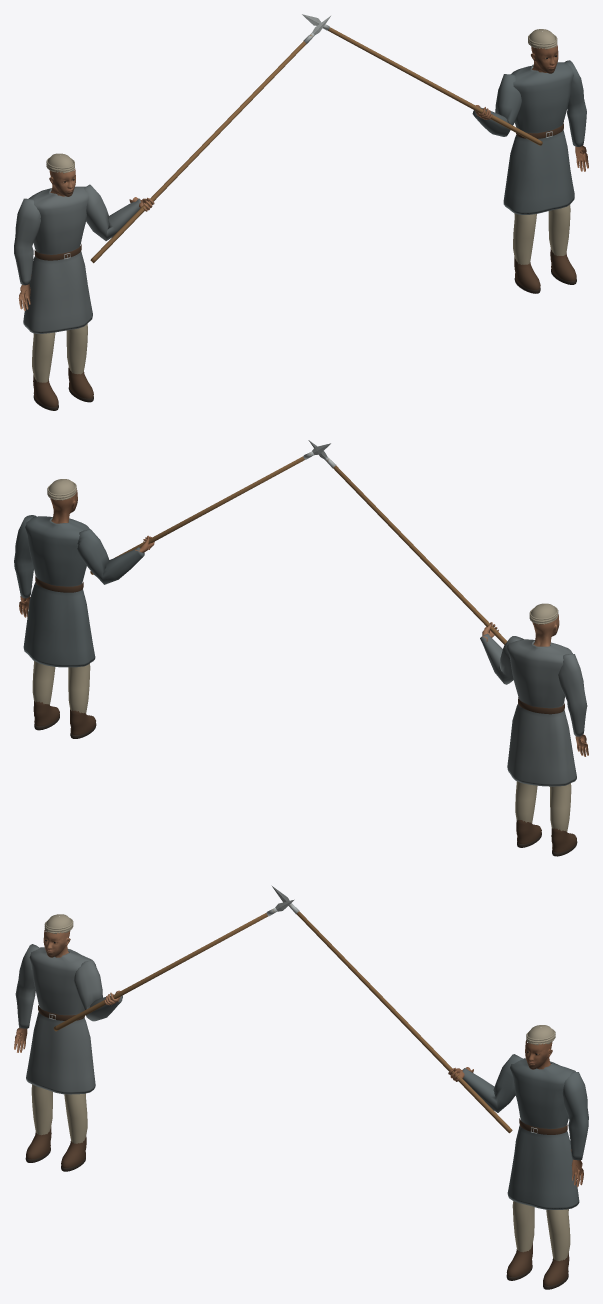
Rendered from guardians.glb.
3 renders of one model, top to bottom at view 1: azimuth 30°, elevation 25°; view 2: azimuth 150°, elevation 25°; view 3: azimuth 330°, elevation 25°, orthographic.
Parts seen in each view (by area): view 1: NG861_GuardRight_Body, NG861_GuardLeft_Body, NG861_GuardLeft_ArmSpear, NG861_GuardRight_ArmSpear; view 2: NG861_GuardRight_Body, NG861_GuardLeft_Body, NG861_GuardRight_ArmSpear, NG861_GuardLeft_ArmSpear; view 3: NG861_GuardRight_Body, NG861_GuardLeft_Body, NG861_GuardRight_ArmSpear, NG861_GuardLeft_ArmSpear.
Part boxes in pixels (x1,y1,x2,y2): NG861_GuardRight_Body: (503, 29, 588, 293); NG861_GuardLeft_Body: (14, 153, 93, 410); NG861_GuardLeft_ArmSpear: (84, 16, 330, 263); NG861_GuardRight_ArmSpear: (302, 14, 542, 145); NG861_GuardRight_Body: (14, 479, 96, 738); NG861_GuardLeft_Body: (507, 603, 588, 856); NG861_GuardRight_ArmSpear: (77, 443, 330, 584); NG861_GuardLeft_ArmSpear: (308, 440, 523, 684); NG861_GuardRight_Body: (506, 1025, 588, 1289); NG861_GuardLeft_Body: (14, 914, 96, 1171); NG861_GuardRight_ArmSpear: (271, 885, 523, 1133); NG861_GuardLeft_ArmSpear: (53, 899, 294, 1031).
Bounding box in the file's own units: 4.38 × 2.48 × 0.4737.
